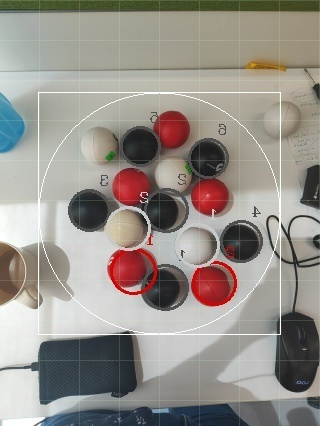Pelota blanca: (103, 206, 153, 248), (173, 225, 220, 267), (0, 241, 28, 307), (287, 214, 320, 270), (79, 124, 121, 166), (260, 100, 302, 139), (154, 156, 196, 192), (284, 403, 320, 425)
Pelota negra: (274, 310, 320, 392), (135, 403, 249, 425), (141, 262, 191, 312), (66, 188, 111, 232), (220, 220, 265, 264), (146, 188, 191, 232), (189, 137, 230, 179), (122, 124, 161, 166), (119, 406, 156, 425)
Pelota roja: (106, 246, 159, 296), (191, 260, 238, 307), (191, 177, 233, 219), (151, 108, 193, 150), (111, 166, 153, 206)
